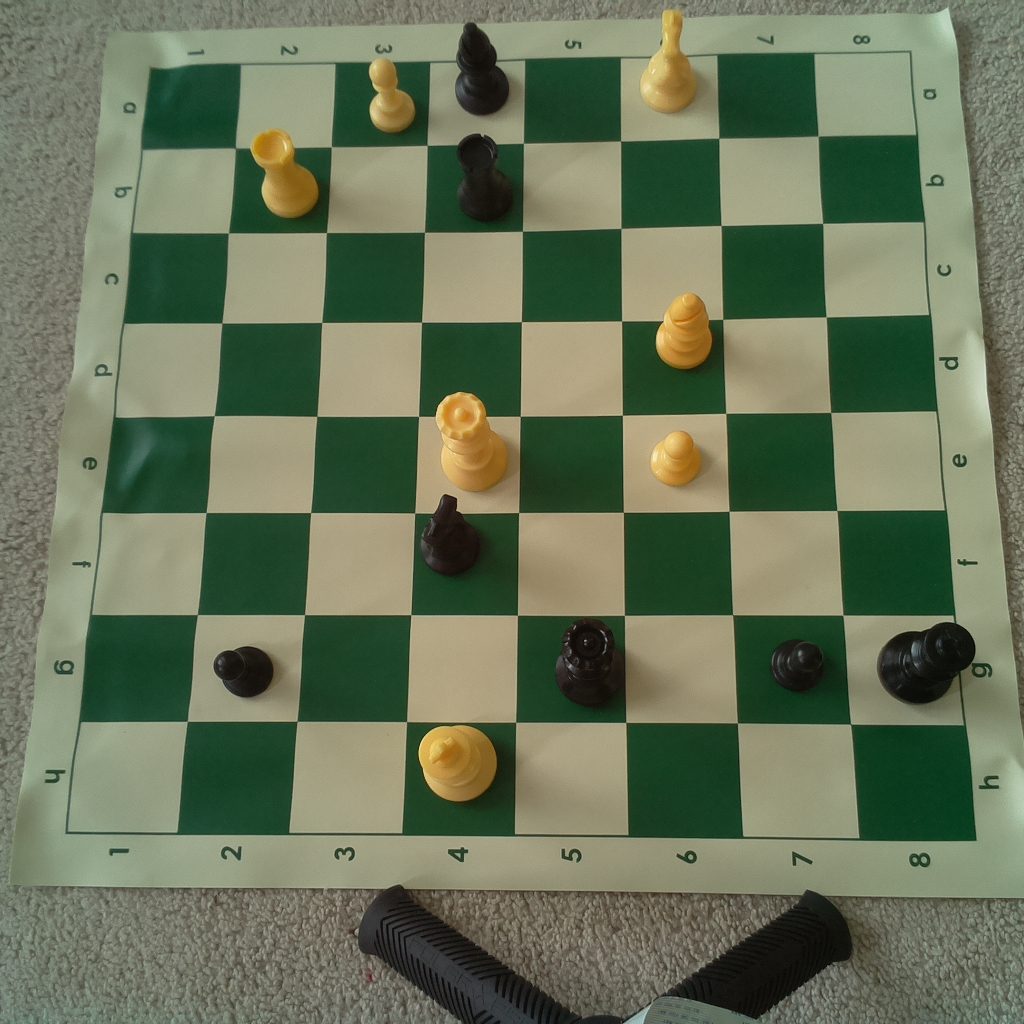black_bishop: (442, 15, 515, 114)
black_king: (873, 614, 976, 704)
black_knight: (412, 487, 485, 579)
black_pawn: (211, 635, 276, 704), (767, 628, 828, 695)
black_queen: (546, 614, 629, 710)
black_rook: (446, 131, 521, 223)
file_a: (138, 51, 914, 153)
file_b: (129, 134, 923, 234)
file_c: (128, 222, 928, 322)
file_d: (115, 317, 936, 419)
file_e: (101, 412, 947, 509)
file_f: (92, 509, 955, 613)
file_g: (79, 614, 970, 725)
file_h: (67, 721, 977, 841)
outline: (64, 52, 979, 839)
rank_1: (64, 64, 244, 835)
rank_2: (176, 65, 337, 834)
rank_3: (286, 64, 433, 832)
rank_4: (401, 62, 527, 838)
rank_5: (511, 57, 631, 836)
rank_6: (621, 56, 745, 839)
rank_7: (715, 54, 860, 838)
rank_8: (815, 56, 979, 841)
white_bishop: (650, 287, 719, 373)
white_king: (411, 721, 502, 801)
white_knight: (629, 4, 707, 118)
white_pawn: (363, 52, 419, 135), (649, 425, 707, 488)
white_queen: (425, 388, 518, 492)
white_rook: (245, 127, 320, 221)
